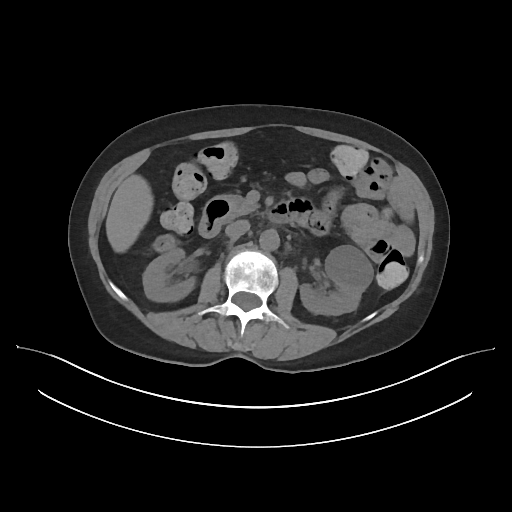Lesion: (320, 240, 377, 296)
